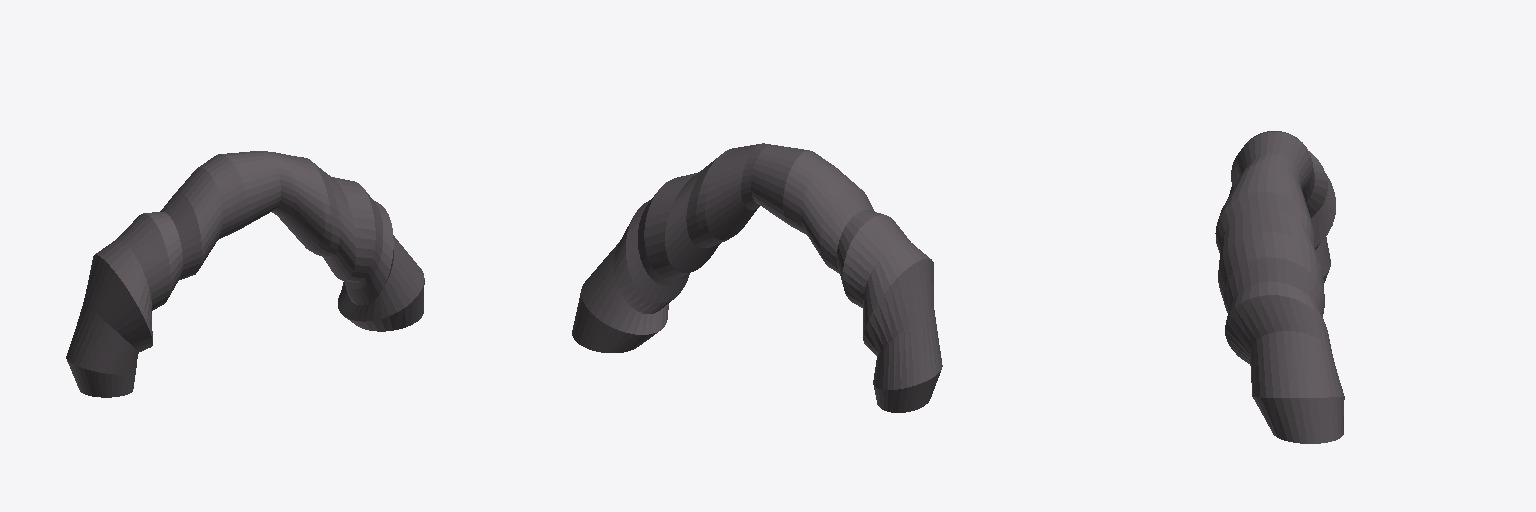
Rendered from Rock_Scenery.obj.
The picture shows the model from 3 angles: view 1: azimuth 30°, elevation 25°; view 2: azimuth 150°, elevation 25°; view 3: azimuth 270°, elevation 25°; orthographic projection.
Parts seen in each view (by area): view 1: Circle; view 2: Circle; view 3: Circle.
Boxes of the visible parts, x1=… form: Circle: x1=66, y1=151, x2=424, y2=397; Circle: x1=572, y1=143, x2=942, y2=412; Circle: x1=1215, y1=131, x2=1344, y2=443.
Size of the model in its own units: 13.46 by 7.9 by 4.25.